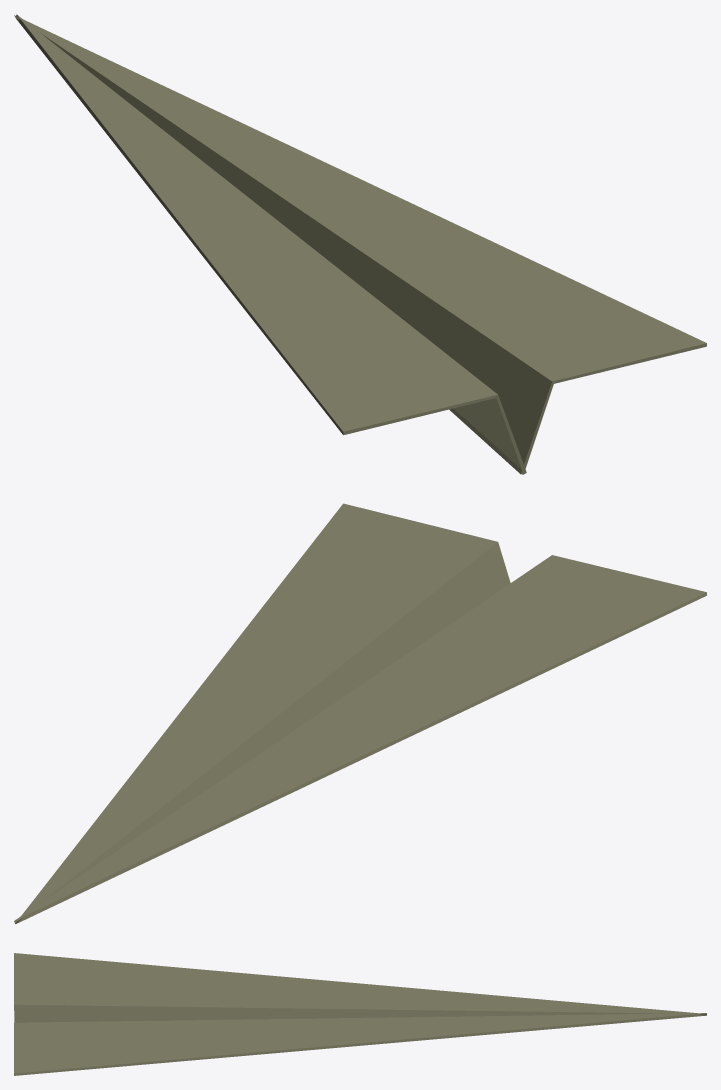
File: AvionPapel.fbx
3 views of the same model, one above another, from view 1: azimuth 30°, elevation 25°; view 2: azimuth 150°, elevation 25°; view 3: azimuth 270°, elevation 25° (orthographic). The views are drawn at different scales.
Parts seen in each view (by area): view 1: Plane; view 2: Plane; view 3: Plane.
Part boxes in pixels (x1,y1,x2,y2): Plane: [14, 14, 706, 474]; Plane: [14, 503, 706, 924]; Plane: [14, 953, 706, 1075].
Size of the model in its own units: 110 by 25.52 by 267.
